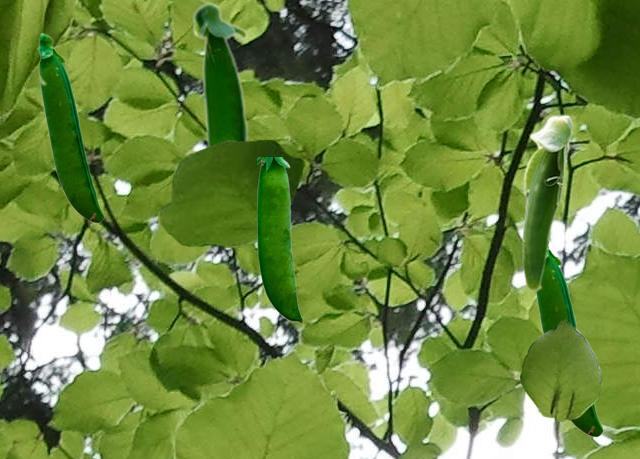pea: (535, 245, 602, 436), (37, 32, 103, 222), (521, 114, 573, 291), (191, 1, 248, 147), (257, 157, 302, 324)
